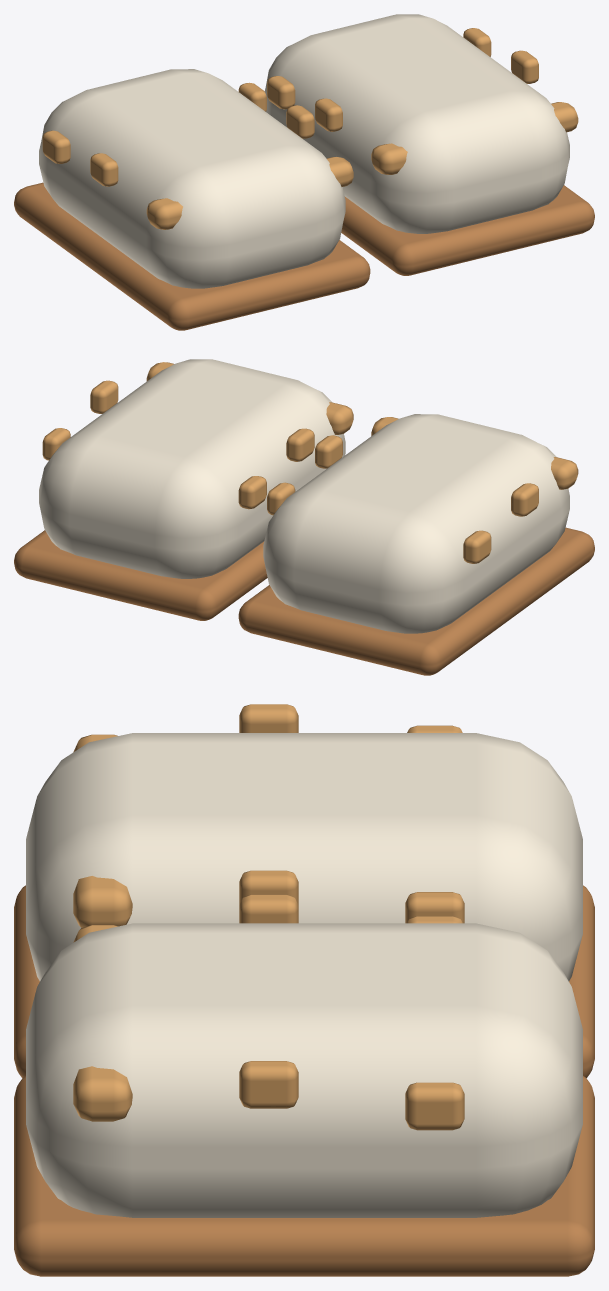
The model's file is ancient_princess_sandals.glb.
3 renders of one model, top to bottom at view 1: azimuth 30°, elevation 25°; view 2: azimuth 150°, elevation 25°; view 3: azimuth 270°, elevation 25°, orthographic. The views are drawn at different scales.
Parts seen in each view (by area): view 1: ancient_princess_sandals_LegL, ancient_princess_sandals_LegR; view 2: ancient_princess_sandals_LegL, ancient_princess_sandals_LegR; view 3: ancient_princess_sandals_LegR, ancient_princess_sandals_LegL.
Part boxes in pixels (x1,y1,x2,y2): ancient_princess_sandals_LegL: (14, 69, 370, 330); ancient_princess_sandals_LegR: (264, 14, 594, 275); ancient_princess_sandals_LegL: (238, 414, 594, 675); ancient_princess_sandals_LegR: (14, 359, 353, 620); ancient_princess_sandals_LegR: (14, 894, 594, 1276); ancient_princess_sandals_LegL: (14, 704, 594, 1077).
Size of the model in its own units: 0.37 by 0.1075 by 0.245.
